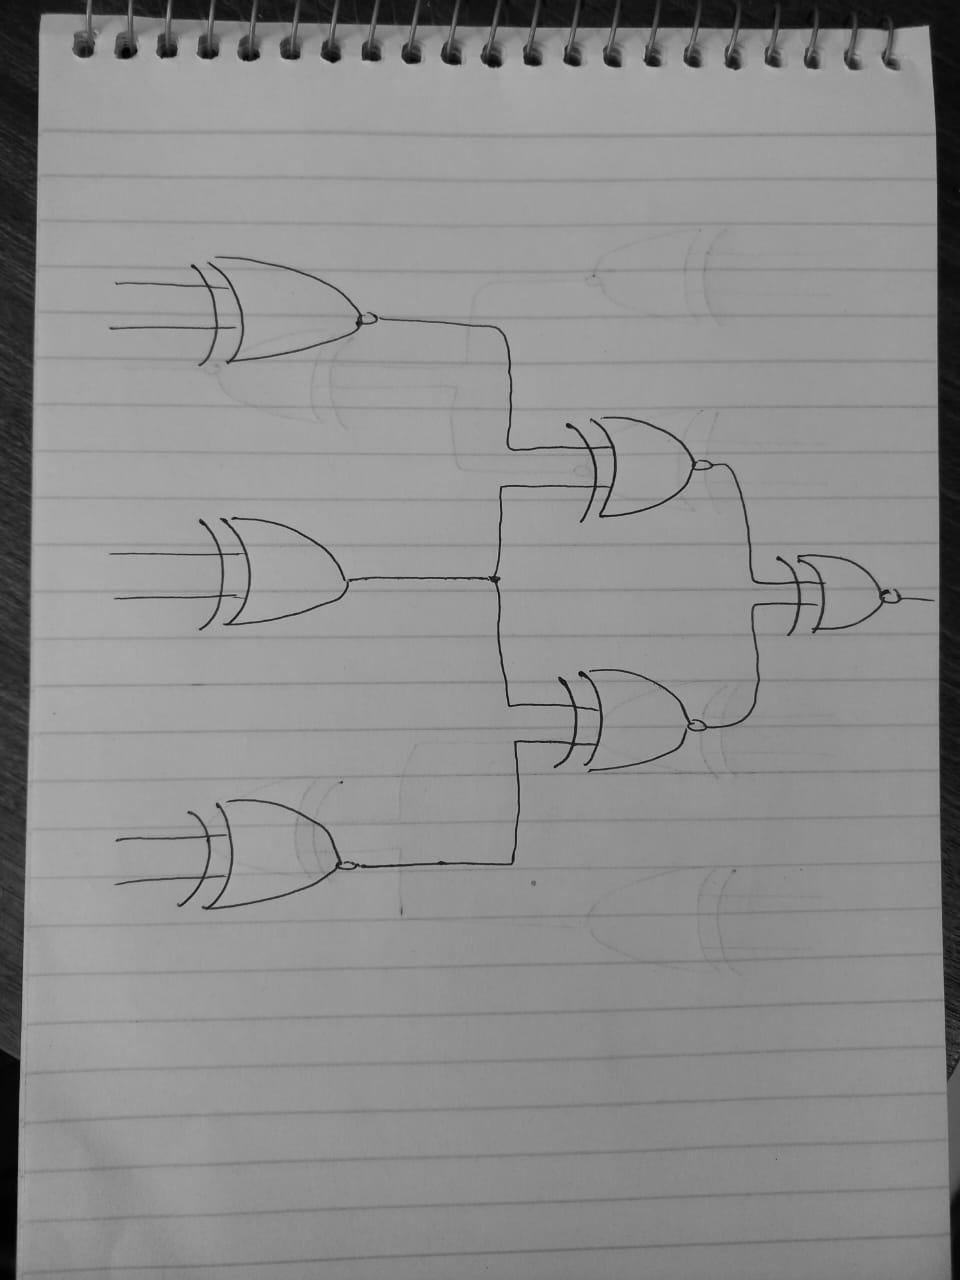XNOR: (172, 238, 404, 386), (160, 780, 383, 924), (541, 652, 734, 799), (555, 397, 745, 537), (775, 537, 912, 652)
XOR: (170, 500, 395, 680)
